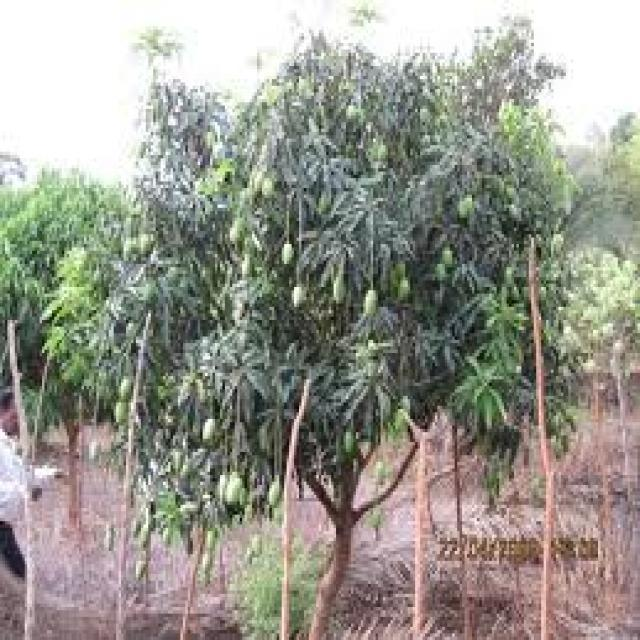tree: (124, 34, 532, 638)
